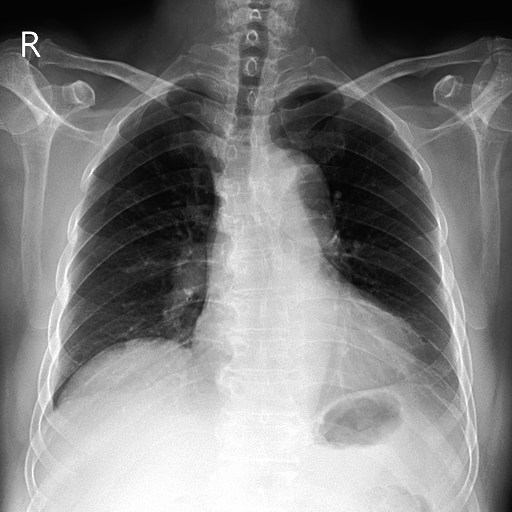Consolidation: (252, 150, 330, 216)
Nodule/Mass: (189, 319, 426, 375)
